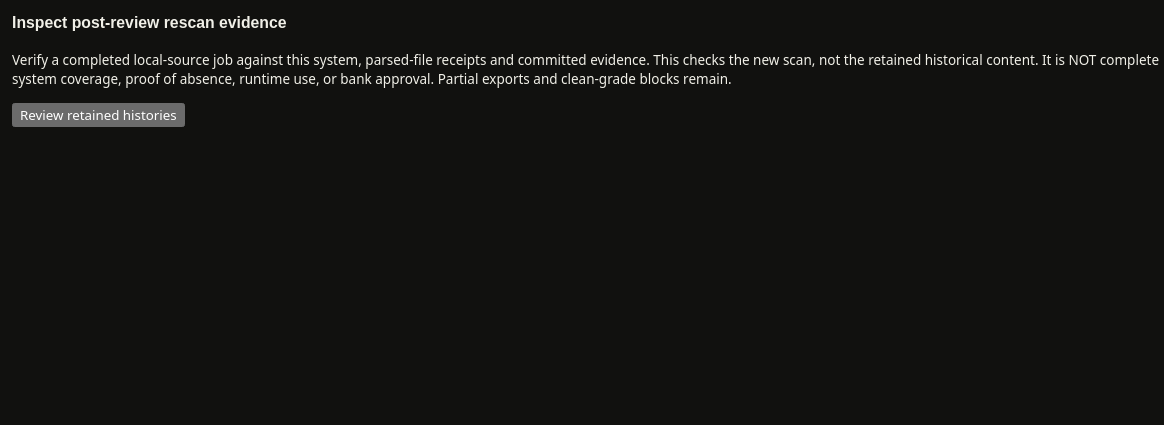
Test: Retained-source rescan inspection › reads only on demand and never presents scoped verification as clean coverage
Click the button "Review retained histories" at (98, 115), box [12, 103, 185, 127]
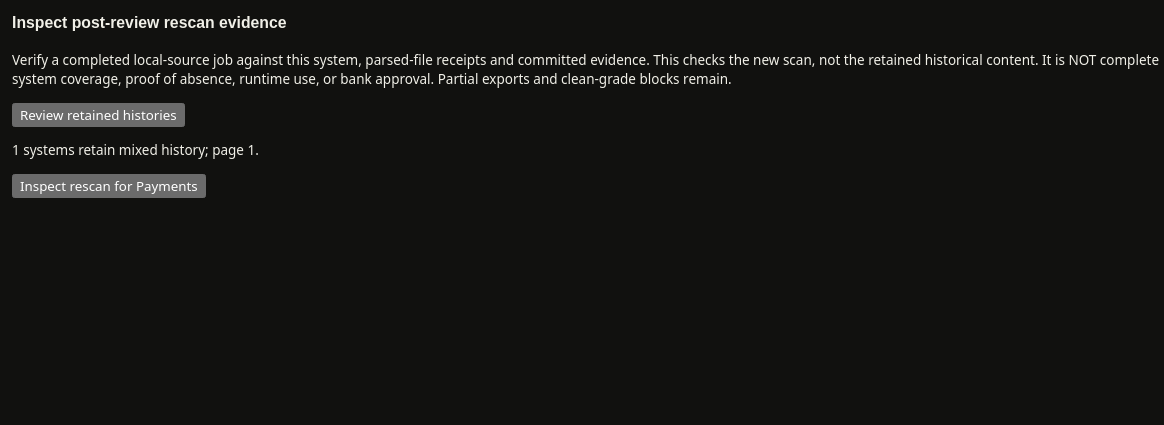
Click the button "Inspect rescan for Payments" at (109, 186), box [12, 174, 206, 198]
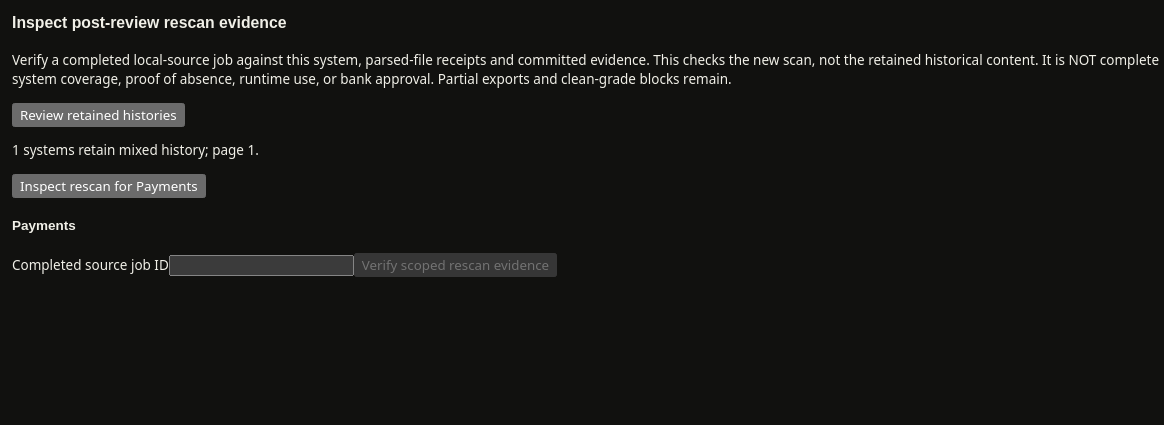
Type "job-a" into the field labelled "Completed source job ID" at (261, 266), box [169, 255, 354, 276]
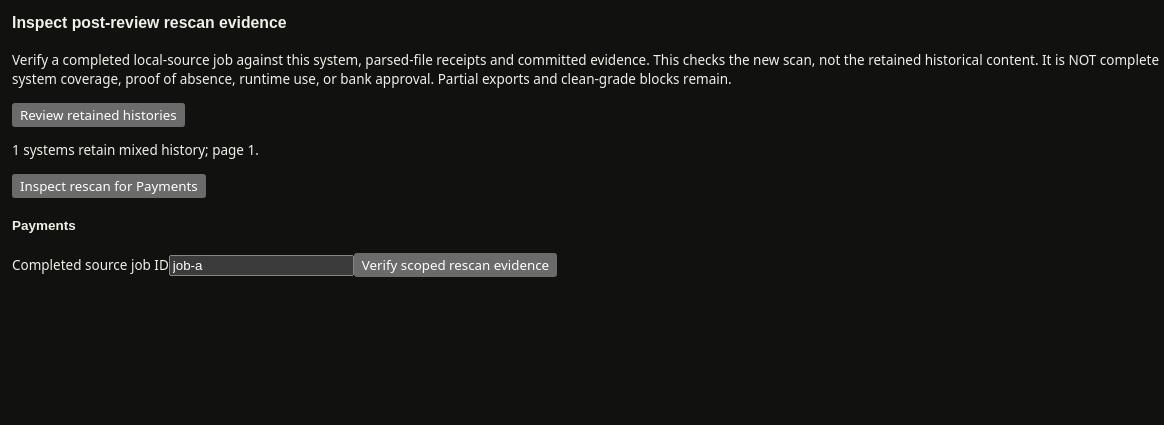
Click the button "Verify scoped rescan evidence" at (455, 265), box [354, 253, 557, 277]
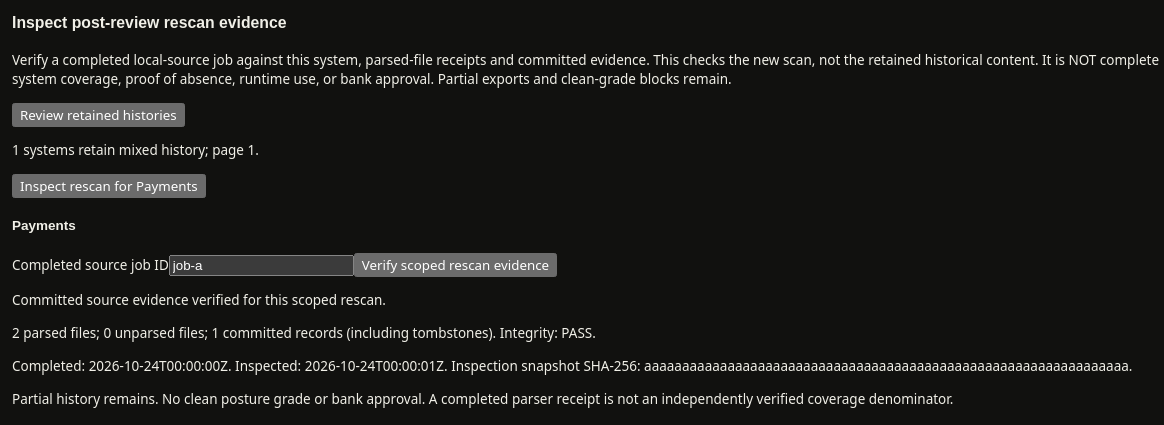
Expected: the text "Committed source evidence verified for this scoped rescan." is shown, [12, 291, 386, 309]
Expected: the text "Partial history remains. No clean posture grade" is shown, [12, 390, 953, 408]
Replace the text in the field labelled "Completed source job ID" with "job-b" at (261, 266), box [169, 255, 354, 276]
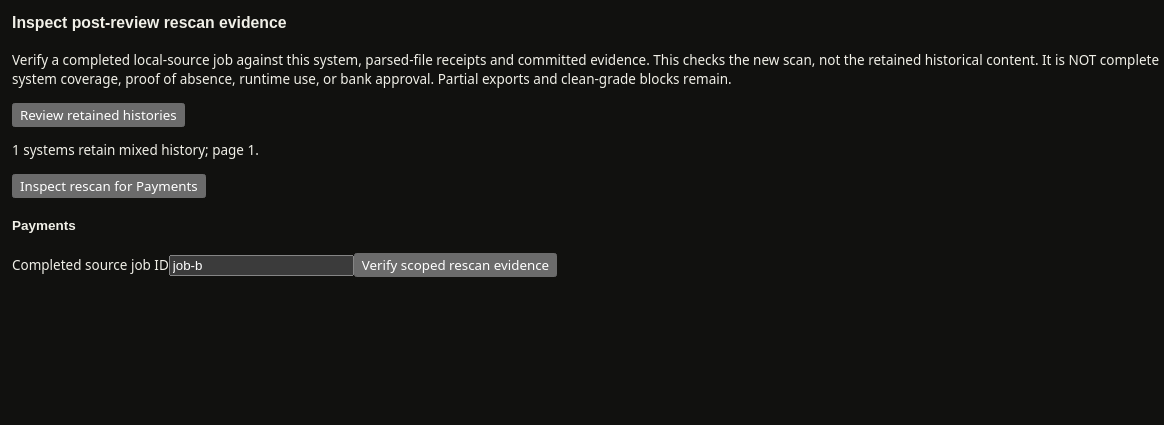
Expected: the text "Committed source evidence verified for this scoped rescan." is gone
